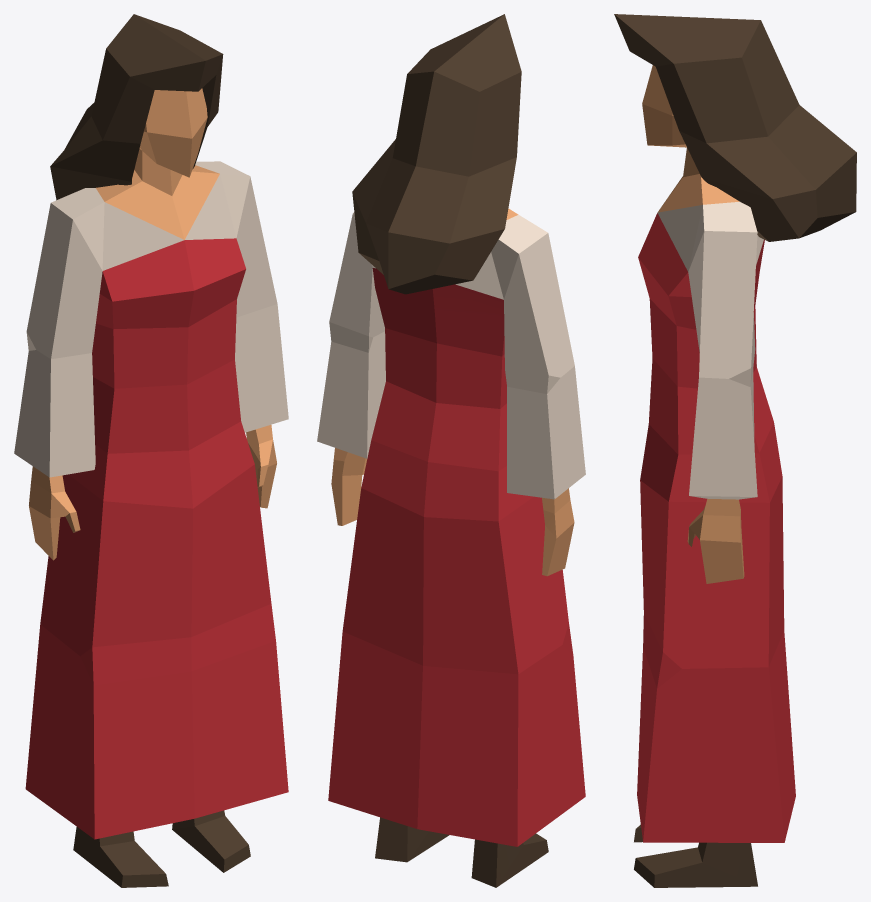
Rendered from people_woman-dress.fbx.
3 renders of one model, left to right at view 1: azimuth 30°, elevation 25°; view 2: azimuth 150°, elevation 25°; view 3: azimuth 270°, elevation 25°, orthographic. The views are drawn at different scales.
Parts seen in each view (by area): view 1: people_woman_dress; view 2: people_woman_dress; view 3: people_woman_dress.
Boxes of the visible parts, x1=… form: people_woman_dress: x1=14, y1=14, x2=288, y2=887; people_woman_dress: x1=317, y1=14, x2=585, y2=887; people_woman_dress: x1=614, y1=14, x2=856, y2=887.
Size of the model in its own units: 61.34 by 199 by 52.16.
